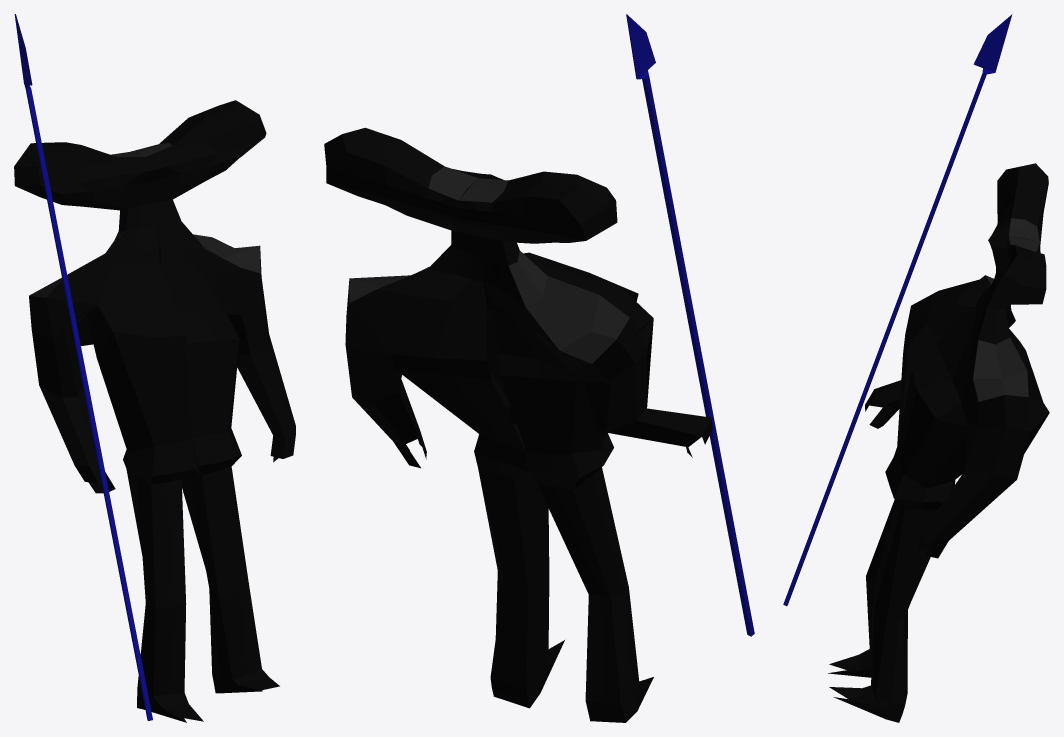
File: Spearman1d.obj
3 renders of one model, left to right at view 1: azimuth 30°, elevation 25°; view 2: azimuth 150°, elevation 25°; view 3: azimuth 270°, elevation 25°, orthographic. The views are drawn at different scales.
Parts seen in each view (by area): view 1: Cube; view 2: Cube; view 3: Cube.
Part boxes in pixels (left/top/right/bottom): Cube: left=14, top=14, right=295, bottom=722; Cube: left=324, top=14, right=754, bottom=722; Cube: left=783, top=14, right=1049, bottom=722.
Size of the model in its own units: 0.7686 by 1.91 by 0.7308.
